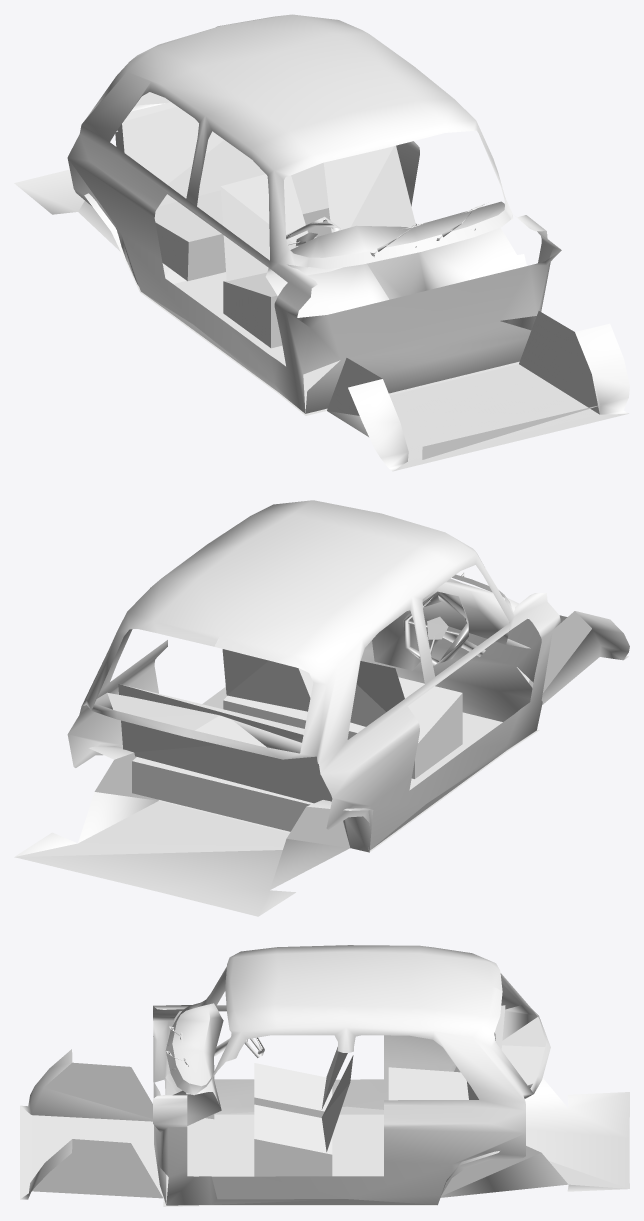
3 views of the same model, one above another, from view 1: azimuth 30°, elevation 25°; view 2: azimuth 150°, elevation 25°; view 3: azimuth 270°, elevation 25° (orthographic). The views are drawn at different scales.
Bounding box in the file's own units: 1.49 × 1.2 × 3.66.
Materials: 1 (1 with a texture image).
